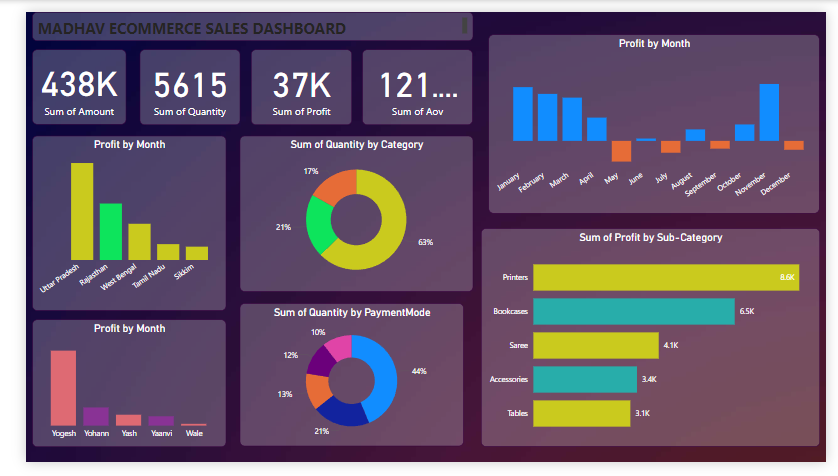

What the dashboard file says about the page in this screenshot:
{"tool":"powerbi","page":{"name":"Page 1","canvas":[1280,720],"ordinal":0},"visuals":[{"type":"textbox","box":[9.6,0,705.3,46.7],"z":0},{"type":"columnChart","title":"Profit by Month","fields":{"Category":["Orders.Order Date.Variation.Date Hierarchy.Month"],"Y":["Details.Profit"]},"box":[739.6,35.7,529.7,286.8],"z":1000},{"type":"barChart","fields":{"Category":["Details.Sub-Category"],"Y":["Details.Profit"]},"box":[727.3,345.8,542,349.9],"z":2000},{"type":"donutChart","fields":{"Category":["Details.Category"],"Y":["Details.Quantity"]},"box":[341.7,197.6,373.2,249.7],"z":3000},{"type":"donutChart","fields":{"Y":["Details.Quantity"],"Category":["Details.PaymentMode"]},"box":[341.7,466.6,358.1,229.2],"z":4000},{"type":"card","fields":{"Values":["Details.Amount"]},"box":[10,60,150,120],"z":5000},{"type":"card","fields":{"Values":["Details.Quantity"]},"box":[181.1,59,160.5,120.8],"z":6000},{"type":"card","fields":{"Values":["Details.Profit"]},"box":[359.5,59,161.9,120.8],"z":7000},{"type":"card","fields":{"Values":["Details.Aov"]},"box":[537.9,59,177,120.8],"z":8000},{"type":"columnChart","title":"Profit by Month","fields":{"Category":["Orders.State"],"Y":["Details.Amount"]},"box":[10,198,310,280],"z":9000},{"type":"columnChart","title":"Profit by Month","fields":{"Y":["Details.Amount"],"Category":["Orders.CustomerName"]},"box":[10,492,310,204],"z":10000}]}

Visuals, with their boxes in screenshot pixels (x1, y1, x2, y2), scaled from the page's 1280x720 canvas onto the 838x476 screenshot:
textbox: box=[6, 0, 468, 31]
"Profit by Month" columnChart: box=[484, 24, 831, 213]
barChart - Details.Sub-Category x Details.Profit: box=[476, 229, 831, 460]
donutChart - Details.Category x Details.Quantity: box=[224, 131, 468, 296]
donutChart - Details.Quantity x Details.PaymentMode: box=[224, 308, 458, 460]
card - Details.Amount: box=[7, 40, 105, 119]
card - Details.Quantity: box=[119, 39, 224, 119]
card - Details.Profit: box=[235, 39, 341, 119]
card - Details.Aov: box=[352, 39, 468, 119]
"Profit by Month" columnChart: box=[7, 131, 210, 316]
"Profit by Month" columnChart: box=[7, 325, 210, 460]
